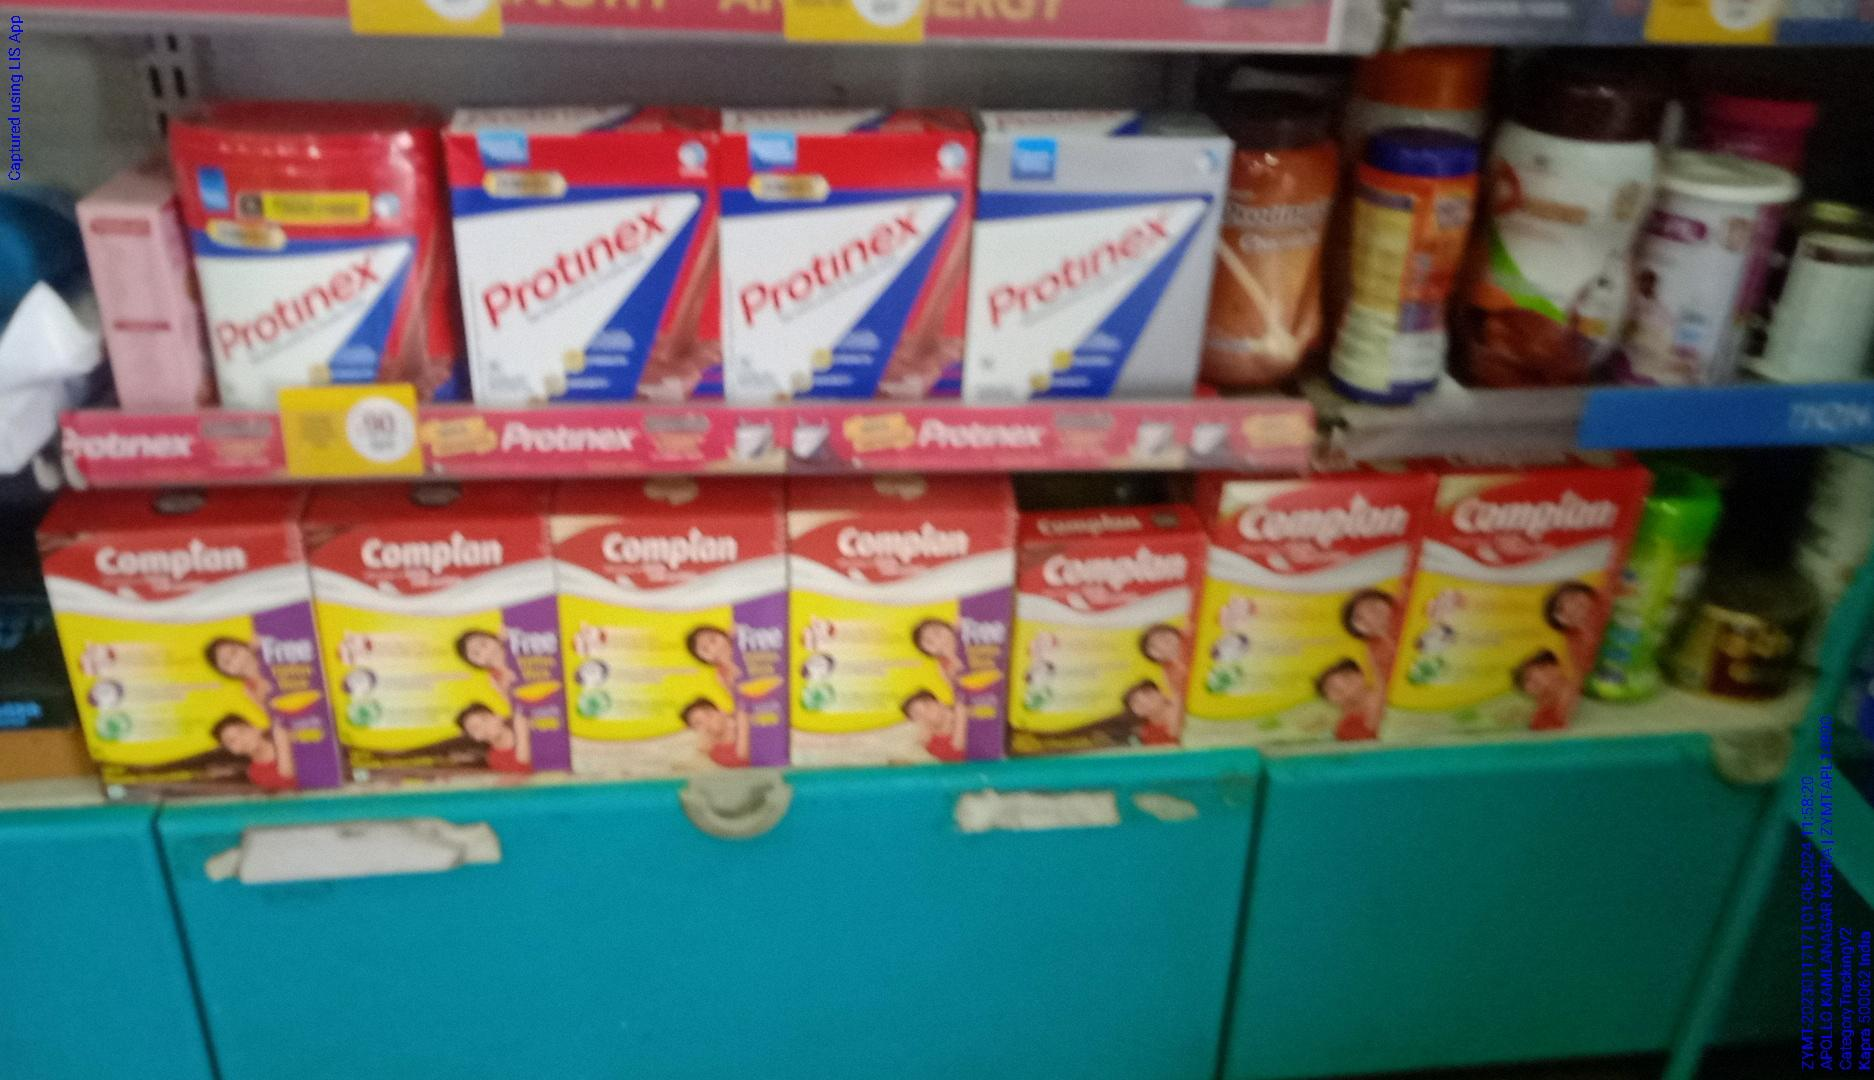COMPLAN_CHOCOLATE_200_GMS_PACK: (1018, 541, 1192, 758)
COMPLAN_PISTA_BADAM_500_GMS_PACK: (1420, 471, 1627, 747), (1207, 484, 1413, 759)
PROTINEX_CHOCOLATE_400_G_JAR: (176, 118, 422, 411)
